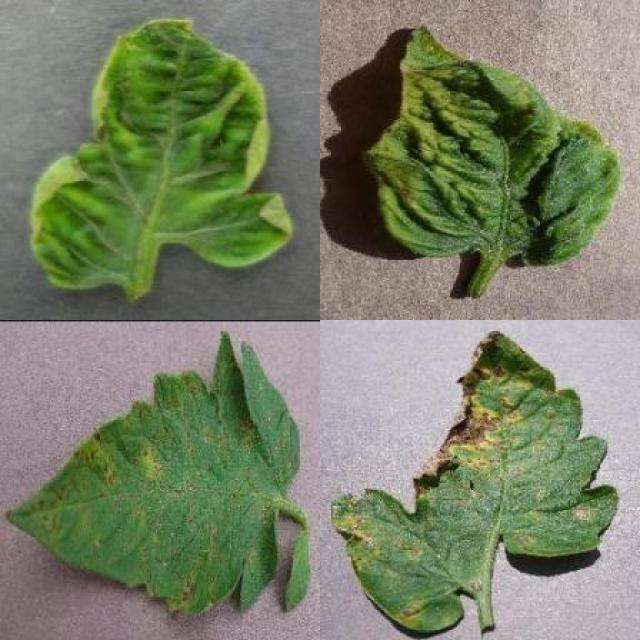Septoria: (332, 330, 621, 633), (4, 331, 299, 616)
Yellow Leaf Curl Virus: (30, 17, 294, 290), (366, 25, 620, 268)
